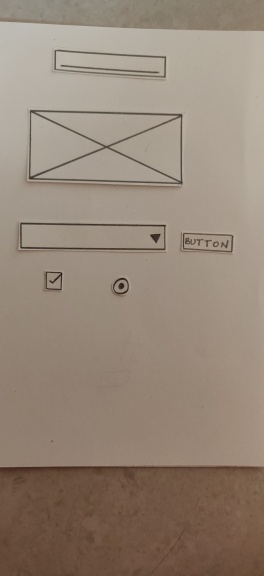button: (176, 229, 238, 256)
checkbox: (41, 268, 66, 296)
dropdown: (16, 218, 170, 256)
img: (25, 107, 189, 193)
radio: (107, 273, 133, 297)
text: (49, 46, 173, 83)
